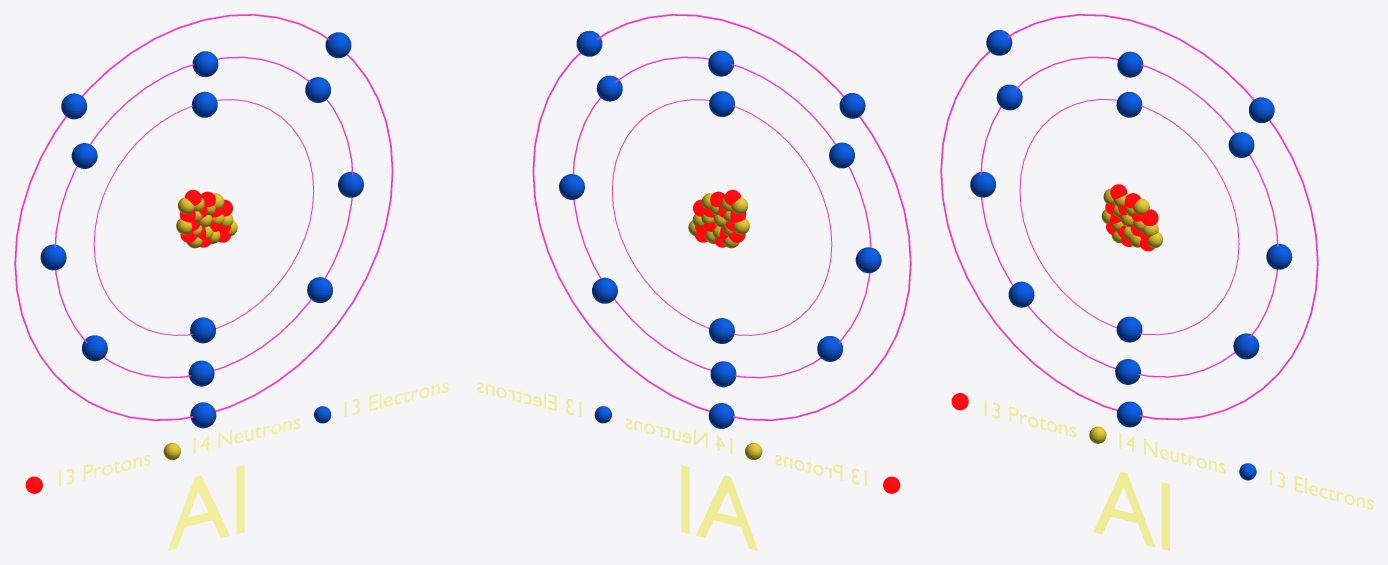
The model's file is aluminium.glb.
The picture shows the model from 3 angles, left to right: view 1: azimuth 30°, elevation 25°; view 2: azimuth 150°, elevation 25°; view 3: azimuth 330°, elevation 25°; orthographic projection.
Visible parts, largest first — view 1: BézierCircle.002, Text, BézierCircle.001, BézierCircle, Text.002, Text.003, Sphere.032, Sphere.033, Sphere.002, Sphere.001, Sphere.026, Sphere.037 (+8 smaller); view 2: BézierCircle.002, Text, BézierCircle.001, BézierCircle, Text.002, Text.003, Sphere.016, Sphere.026, Sphere.033, Sphere.032, Sphere.015, Sphere.009 (+8 smaller); view 3: BézierCircle.002, Text, BézierCircle.001, BézierCircle, Text.002, Text.003, Sphere.001, Sphere.022, Sphere.020, Sphere.026, Sphere.016, Sphere.030 (+8 smaller).
Part boxes in pixels (x1,y1,x2,y2): BézierCircle.002: (14, 14, 393, 420); Text: (167, 465, 244, 550); BézierCircle.001: (54, 56, 353, 378); BézierCircle: (93, 99, 314, 335); Text.002: (193, 418, 300, 453); Text.003: (344, 382, 448, 416); Sphere.032: (188, 360, 214, 386); Sphere.033: (61, 93, 87, 119); Sphere.002: (191, 91, 217, 117); Sphere.001: (190, 317, 215, 343); Sphere.026: (71, 143, 97, 168); Sphere.037: (190, 402, 216, 428); BézierCircle.002: (532, 14, 911, 420); Text: (681, 465, 758, 550); BézierCircle.001: (572, 56, 871, 378); BézierCircle: (611, 99, 832, 335); Text.002: (625, 418, 732, 453); Text.003: (477, 382, 581, 416); Sphere.016: (855, 247, 881, 273); Sphere.026: (829, 142, 854, 168); Sphere.033: (839, 93, 865, 118); Sphere.032: (710, 361, 736, 387); Sphere.015: (708, 50, 734, 76); Sphere.009: (559, 174, 584, 199); BézierCircle.002: (940, 14, 1318, 420); Text: (1093, 471, 1169, 550); BézierCircle.001: (980, 56, 1278, 377); BézierCircle: (1019, 99, 1239, 335); Text.002: (1119, 433, 1225, 473); Text.003: (1270, 470, 1373, 509); Sphere.001: (1116, 316, 1142, 342); Sphere.022: (1228, 132, 1254, 157); Sphere.020: (1008, 281, 1034, 307); Sphere.026: (996, 84, 1022, 110); Sphere.016: (970, 171, 995, 197); Sphere.030: (1233, 333, 1259, 359).
Size of the model in its own units: 4.62 by 5.32 by 0.2925.
